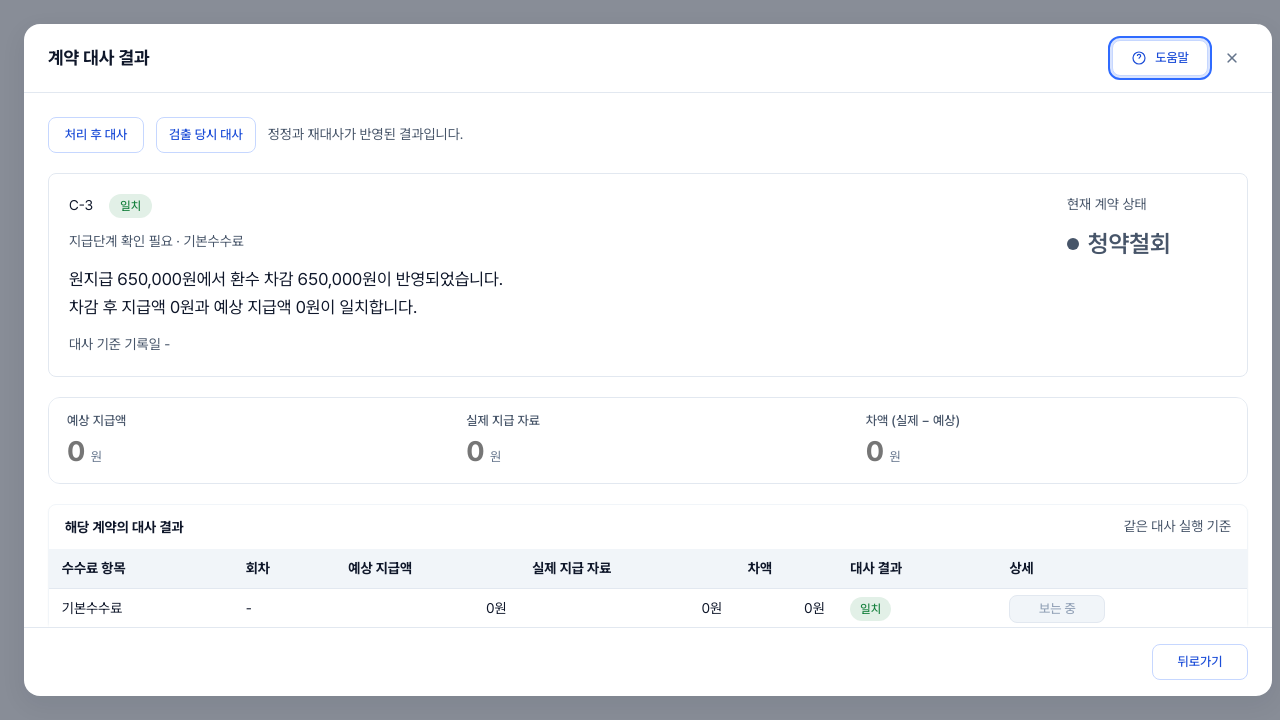
it: 처리 후 재대사와 환수 차감을 기본 표시하고 검출 원본을 별도로 확인한다
expect the text "원지급 650,000원에서 환수 차감 650,000원이 반영" is shown: met, box [69, 269, 503, 317]
Click the button "검출 당시 대사" at coordinates (206, 135), box [156, 117, 256, 153]
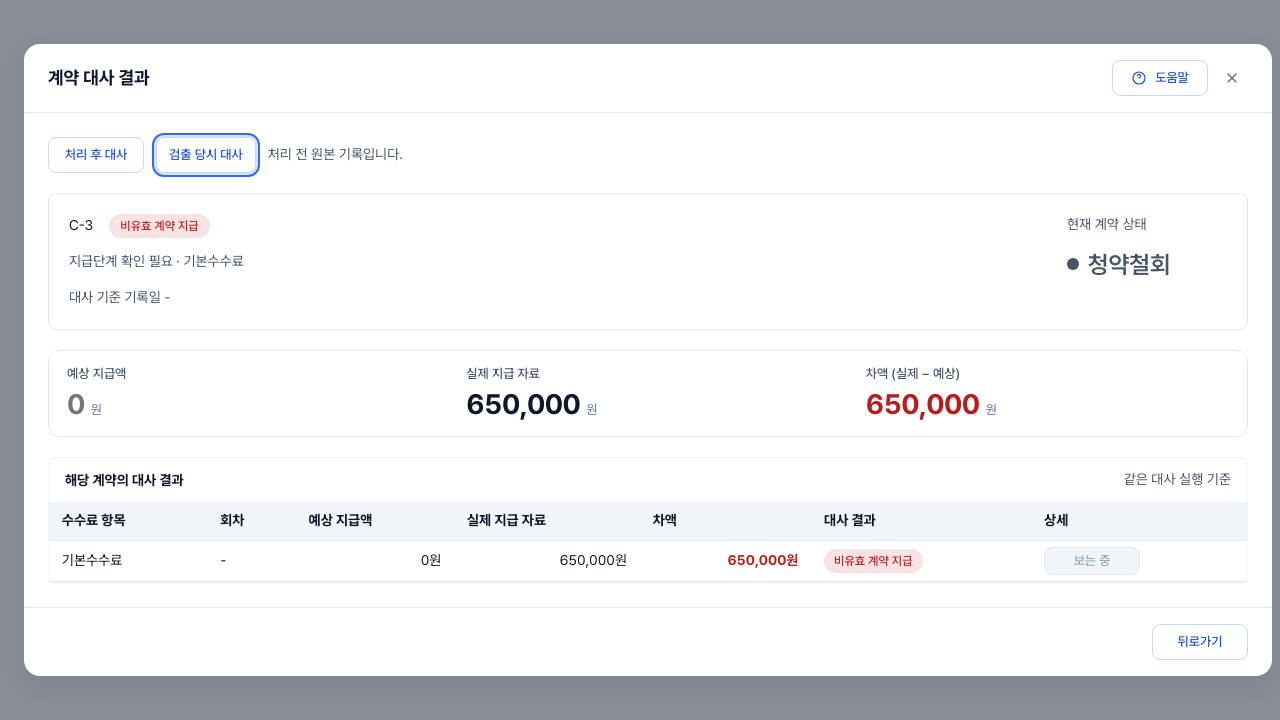
Click the button "처리 후 대사" at coordinates (96, 155), box [48, 137, 144, 173]
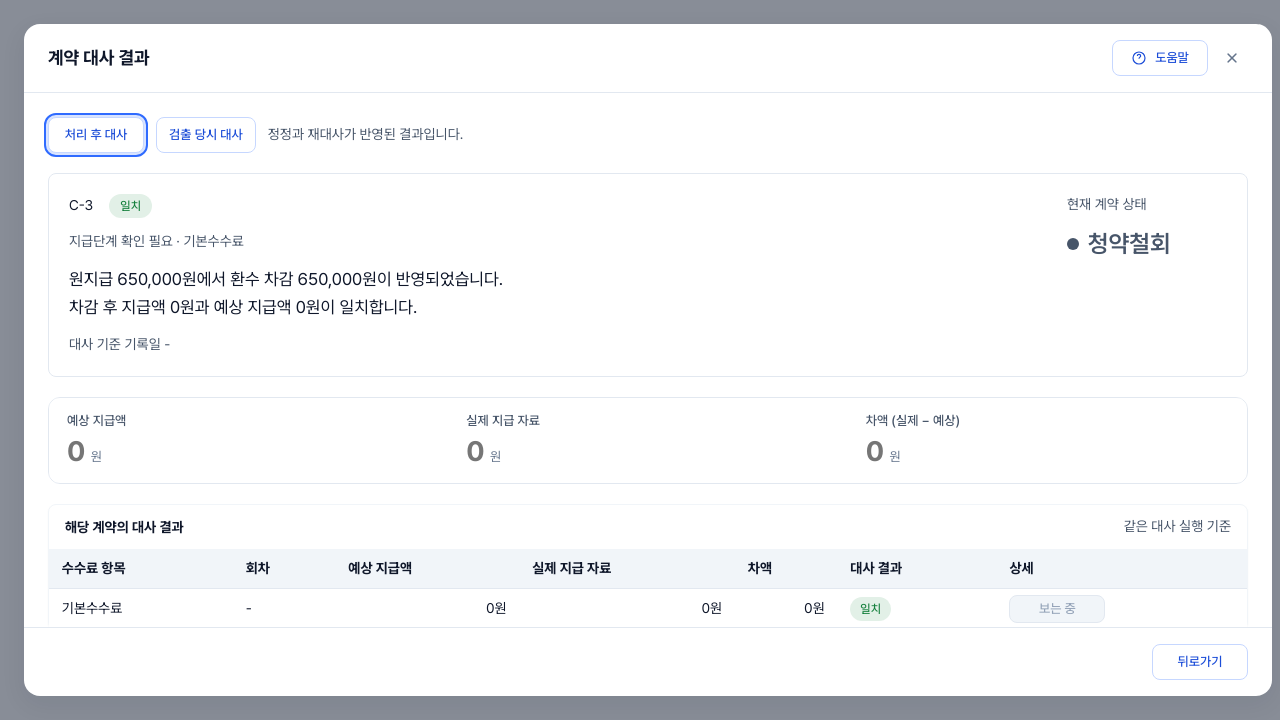
expect the text "차감 후 지급액 0원과 예상 지급액 0원이 일치" is shown: met, box [69, 269, 503, 317]
